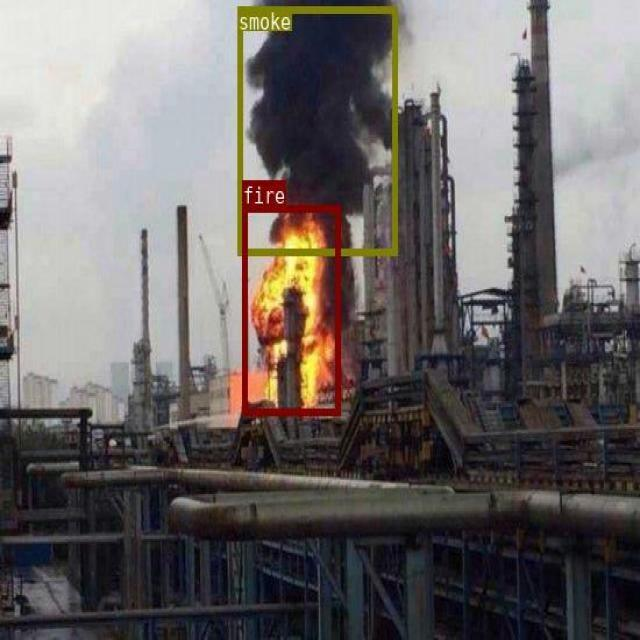fire: (242, 204, 339, 413)
smoke: (237, 6, 397, 254)
